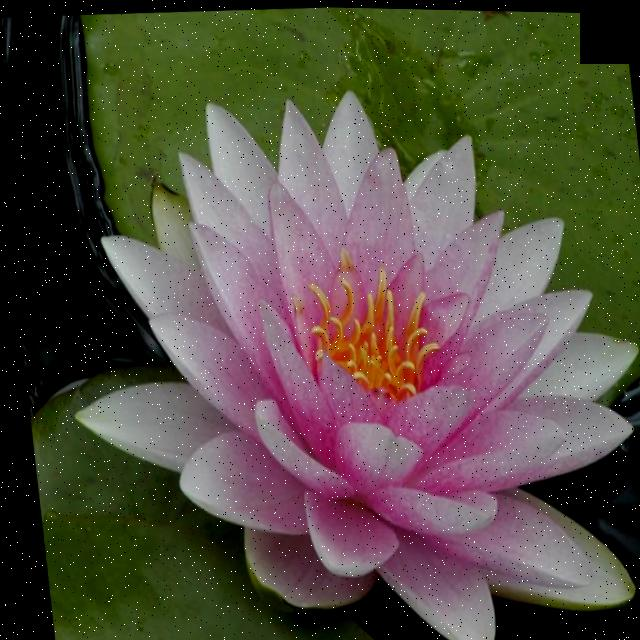water-lily: (24, 53, 640, 640)
